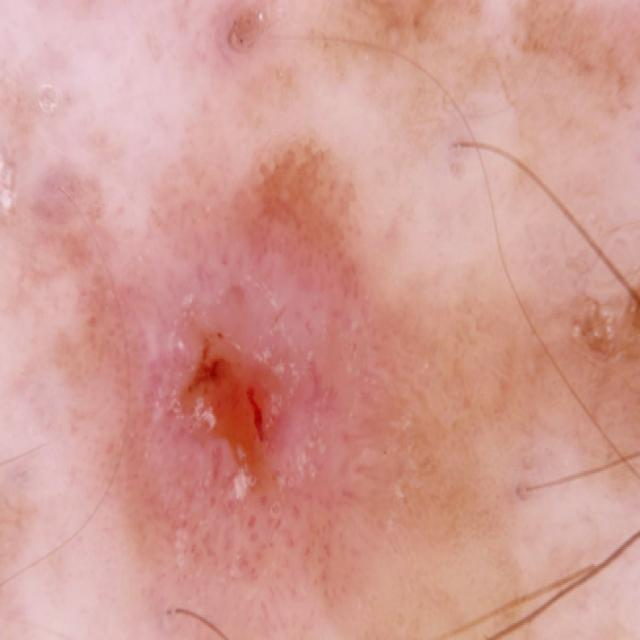Carcinoma: (136, 252, 376, 582), (557, 221, 640, 388)
